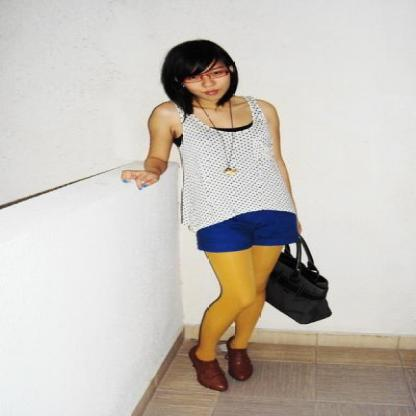bag: (265, 244, 331, 324)
shirt: (168, 100, 296, 233)
shoe: (190, 341, 253, 390)
shorts: (197, 209, 306, 252)
